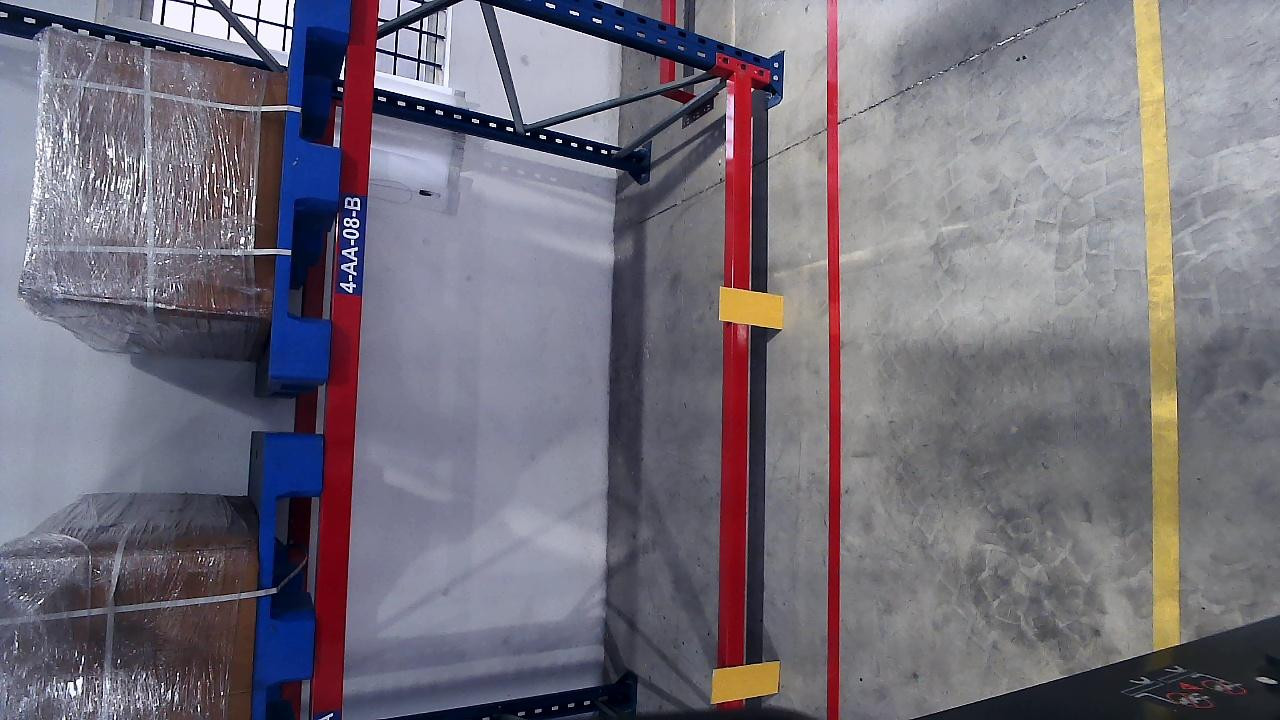h_rack: (311, 60, 377, 683), (725, 77, 758, 638)
orange_strip: (711, 660, 780, 702), (719, 285, 784, 328)
red_line: (822, 0, 844, 712)
small_pallet: (274, 2, 355, 378), (255, 435, 320, 682)
yellow_line: (1135, 0, 1181, 600)
